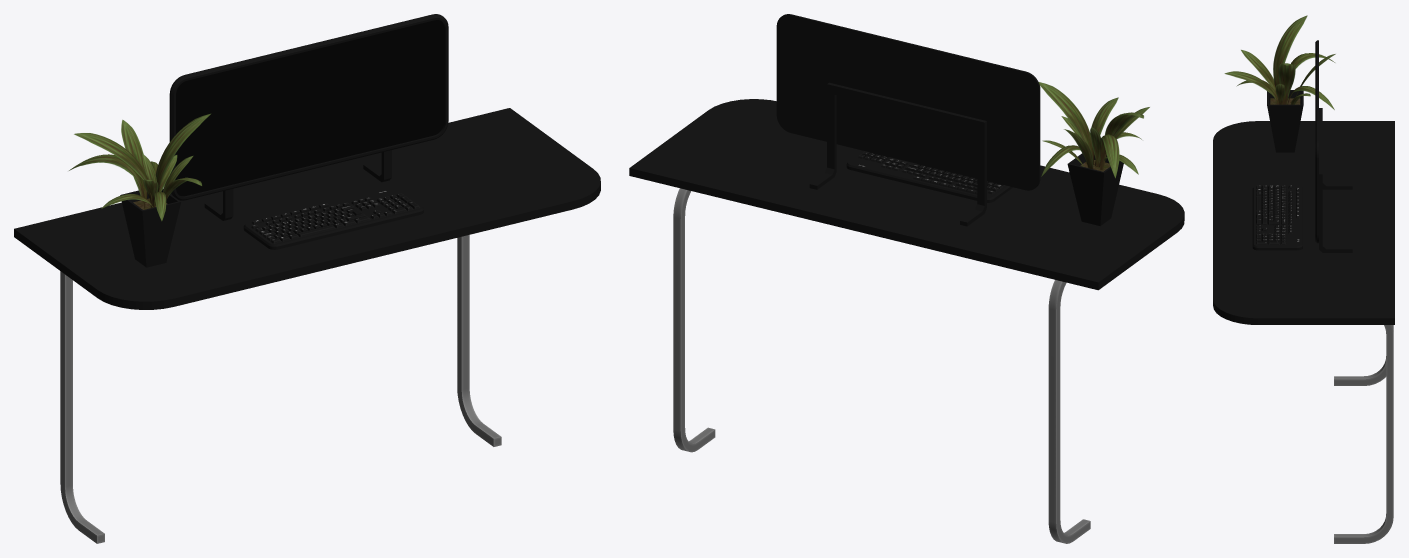
The model's file is office-desk.glb.
3 views of the same model, side by side, from view 1: azimuth 30°, elevation 25°; view 2: azimuth 150°, elevation 25°; view 3: azimuth 270°, elevation 25° (orthographic). The views are drawn at different scales.
Parts seen in each view (by area): view 1: office-desk; view 2: office-desk; view 3: office-desk.
Part boxes in pixels (x1,y1,x2,y2): office-desk: (14, 14, 600, 543); office-desk: (629, 14, 1184, 543); office-desk: (1213, 15, 1394, 543).
Size of the model in its own units: 1.26 by 1.1 by 0.4868.
6 materials, 6 textured.
